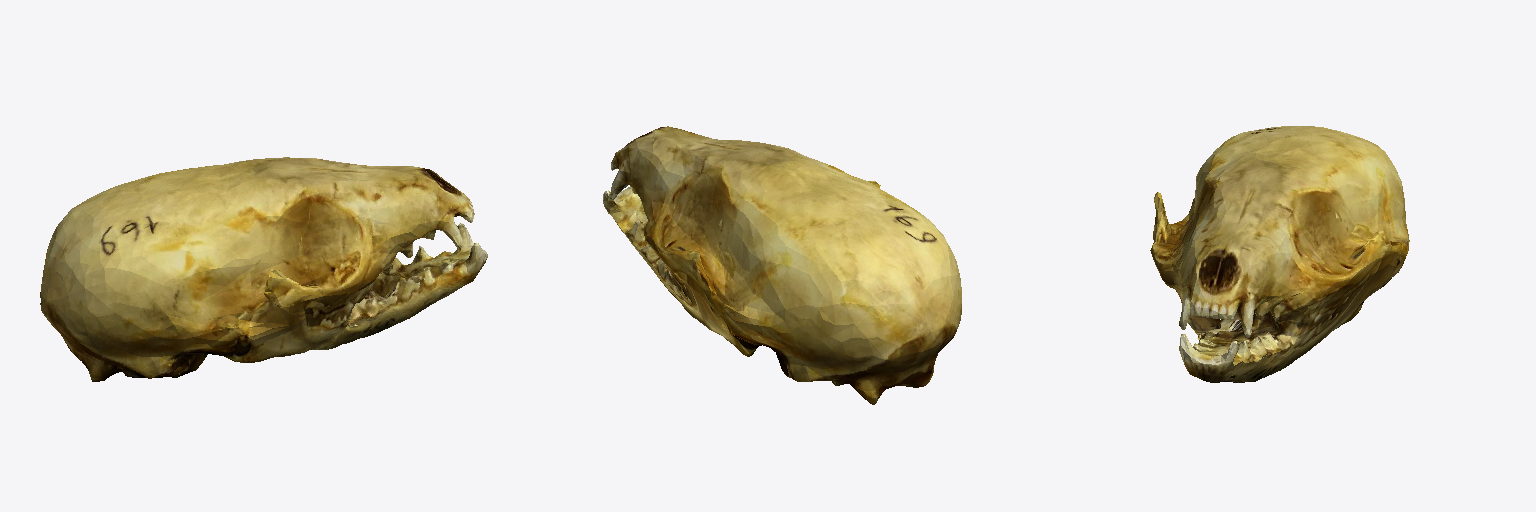
3 views of the same model, side by side, from view 1: azimuth 30°, elevation 25°; view 2: azimuth 150°, elevation 25°; view 3: azimuth 270°, elevation 25° (orthographic).
Visible parts, largest first — view 1: mmGroup0; view 2: mmGroup0; view 3: mmGroup0.
Part boxes in pixels (x1,y1,x2,y2): mmGroup0: (40,157,487,381); mmGroup0: (603,126,961,404); mmGroup0: (1150,126,1409,382).
Bounding box in the file's own units: 86.42 × 39.39 × 50.44.
Materials: 2 (2 with a texture image).